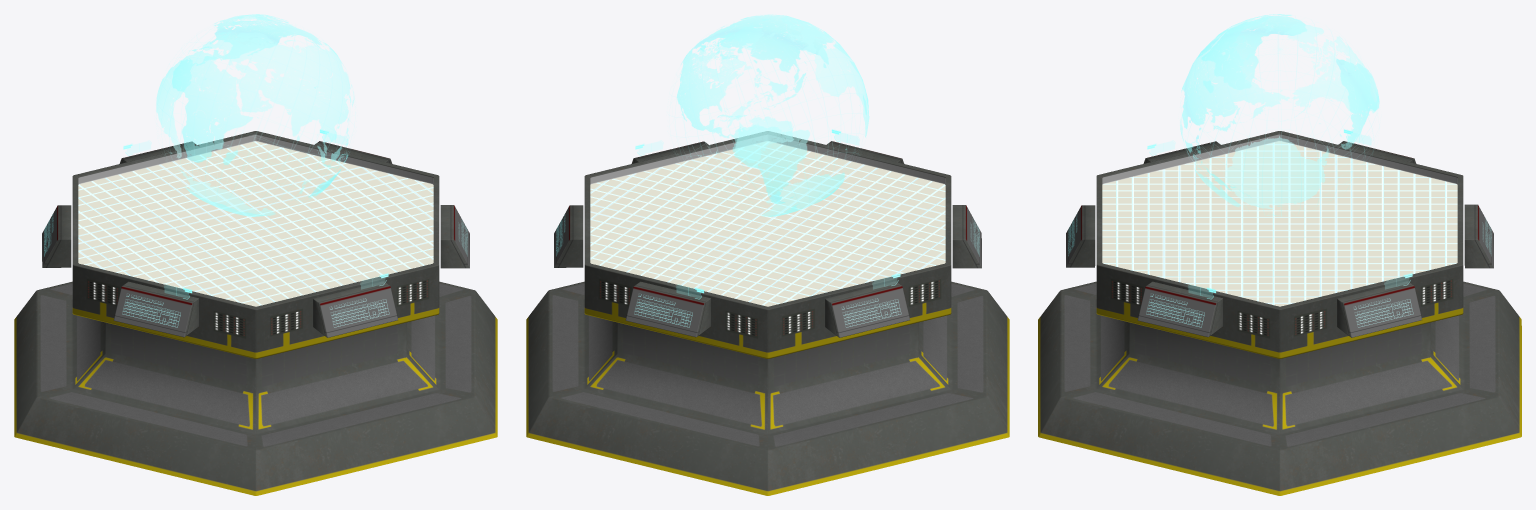
3 renders of one model, left to right at view 1: azimuth 30°, elevation 25°; view 2: azimuth 150°, elevation 25°; view 3: azimuth 270°, elevation 25°, orthographic.
Visible parts, largest first — view 1: Table, Hologram; view 2: Table, Hologram; view 3: Table, Hologram.
Boxes of the visible parts, <box> form: Table: <box>14,129,497,495</box>; Hologram: <box>156,14,354,216</box>; Table: <box>526,129,1009,495</box>; Hologram: <box>677,14,869,216</box>; Table: <box>1038,129,1521,495</box>; Hologram: <box>1180,14,1379,216</box>.
Bounding box in the file's own units: 287 × 202 × 249.
2 materials, 2 textured.
